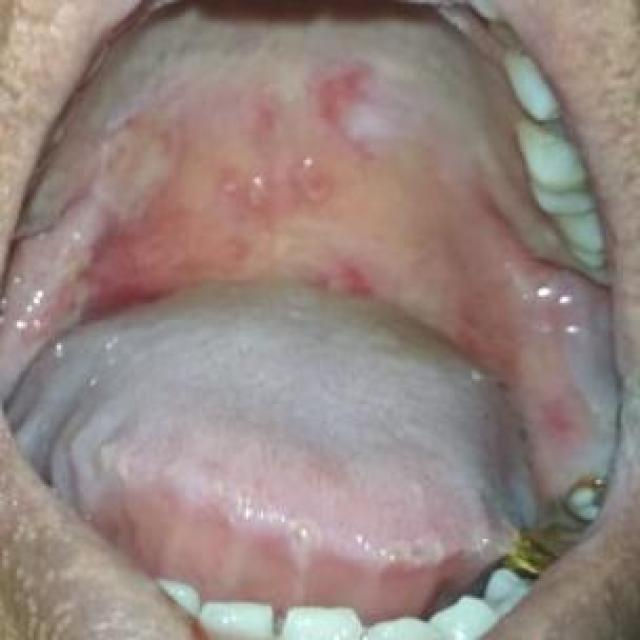leukoplakia-like-detection: (0, 114, 180, 382), (532, 272, 613, 462)
processing_area: (5, 4, 611, 612)
